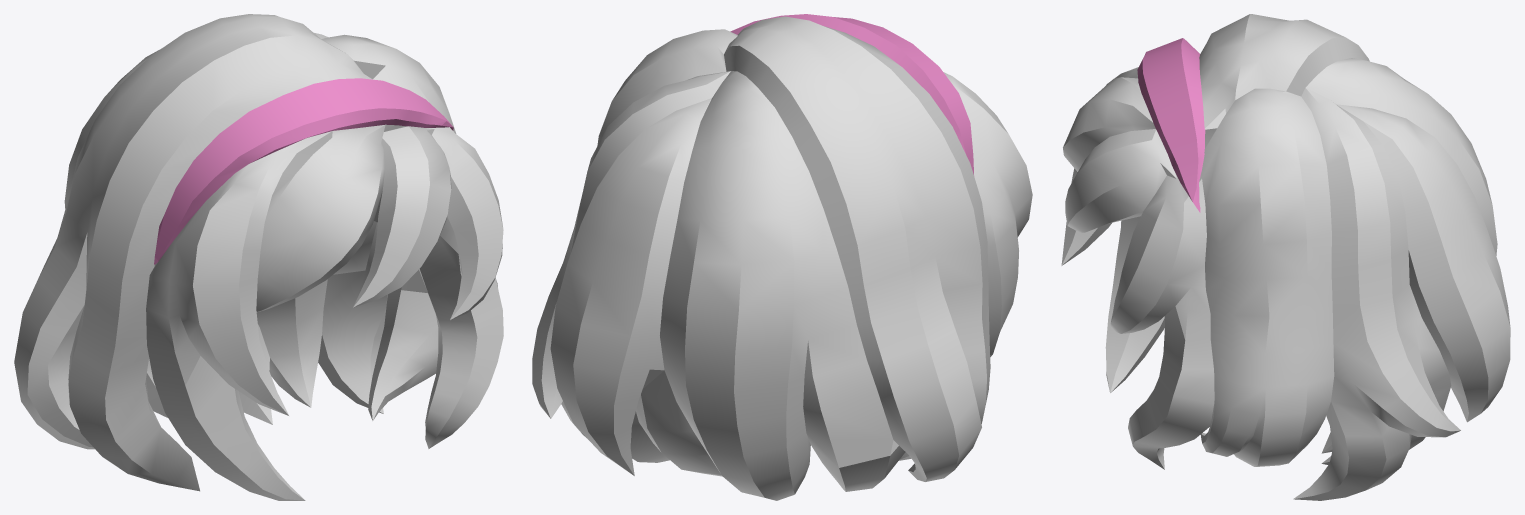
File: source.fbx
3 renders of one model, left to right at view 1: azimuth 30°, elevation 25°; view 2: azimuth 150°, elevation 25°; view 3: azimuth 270°, elevation 25°, orthographic. The views are drawn at different scales.
Parts seen in each view (by area): view 1: human_female_m004_hair, human_female_m004_hair_extra_01; view 2: human_female_m004_hair, human_female_m004_hair_extra_01; view 3: human_female_m004_hair, human_female_m004_hair_extra_01.
Part boxes in pixels (x1,y1,x2,y2): human_female_m004_hair: [14, 14, 503, 500]; human_female_m004_hair_extra_01: [154, 78, 453, 264]; human_female_m004_hair: [532, 16, 1032, 500]; human_female_m004_hair_extra_01: [730, 14, 973, 174]; human_female_m004_hair: [1061, 14, 1510, 500]; human_female_m004_hair_extra_01: [1137, 38, 1205, 212].
Size of the model in its own units: 2.12 by 2.02 by 2.
